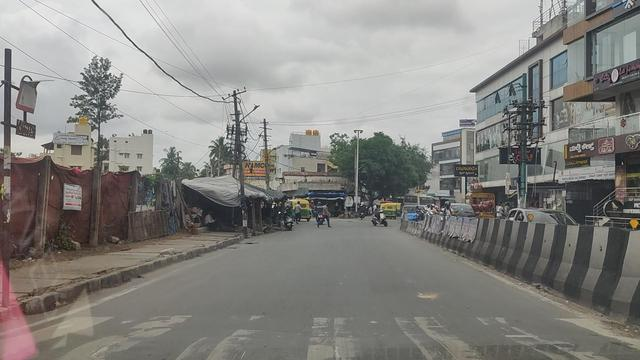SpeedBump: (35, 321, 638, 360)
